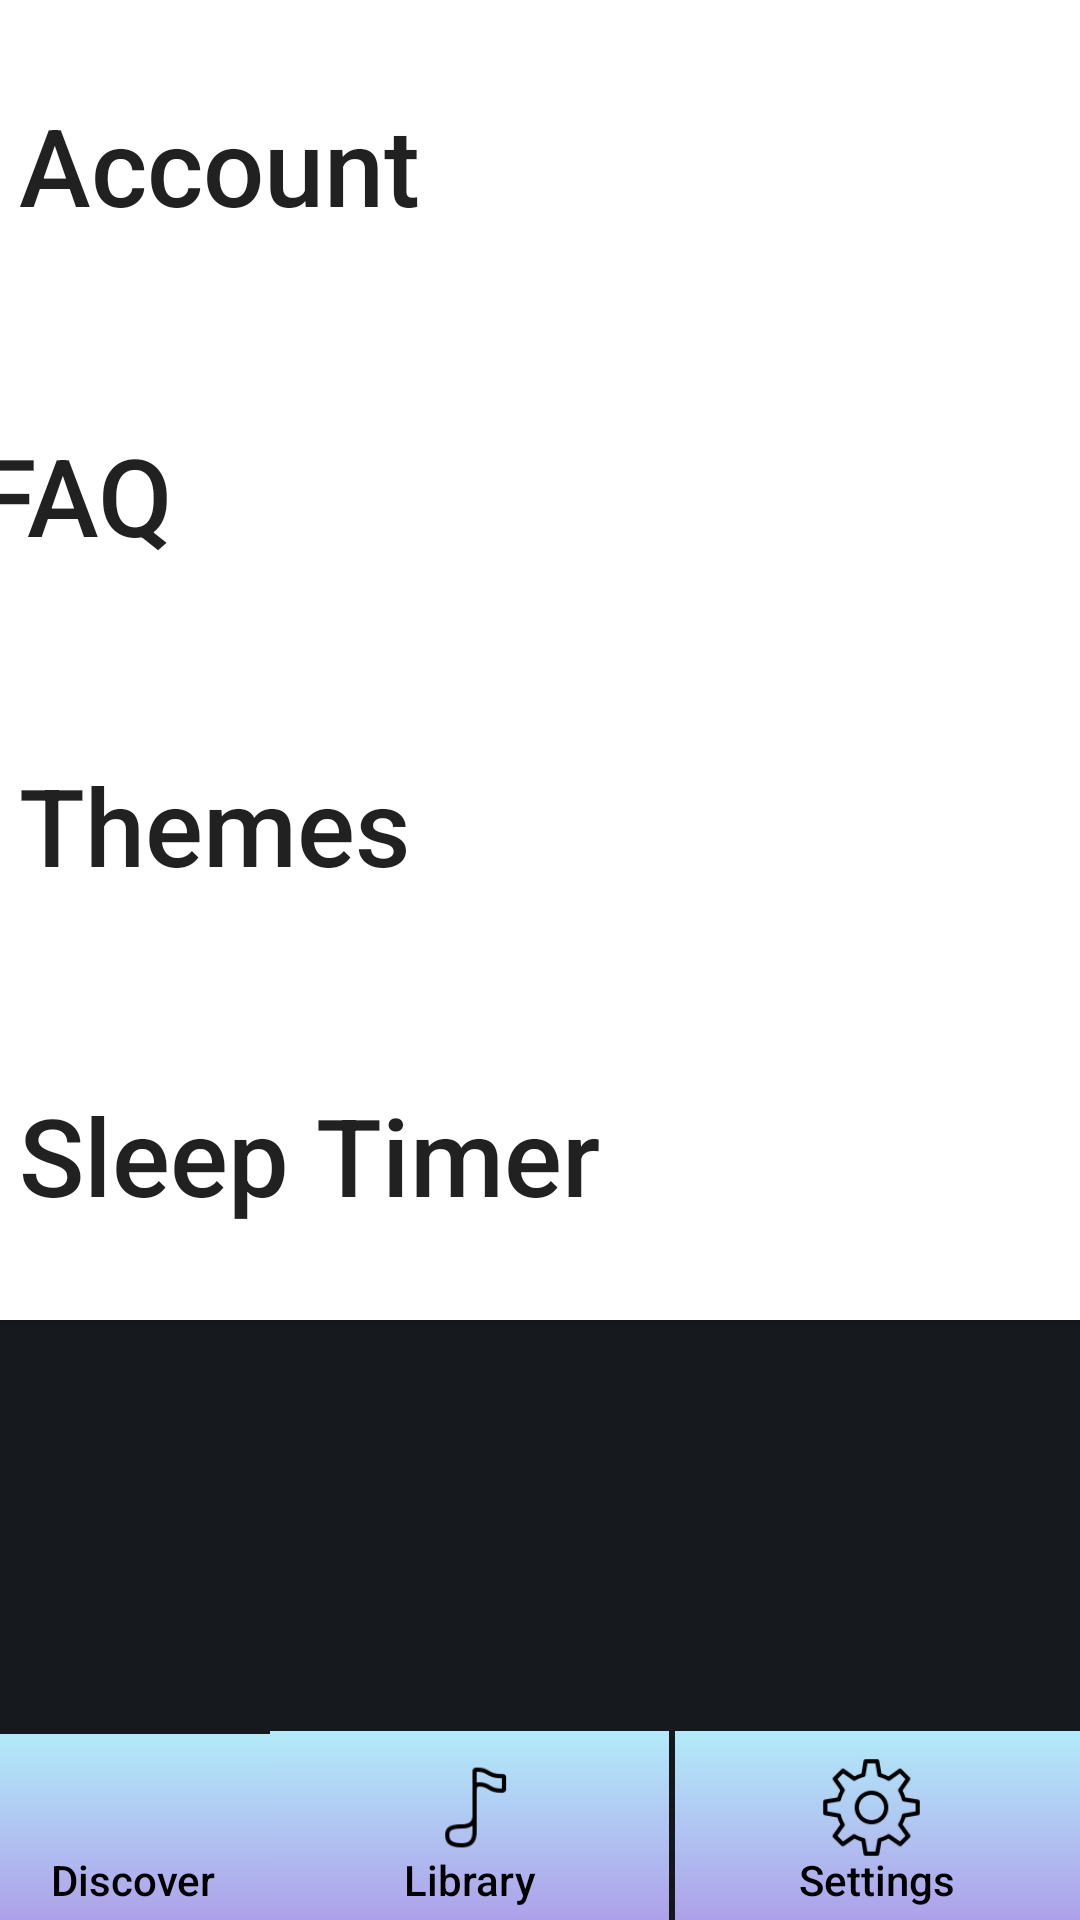

Icons on this 1080 × 1920 Android screen, each with the point to tap as [x,y]:
music: [472,1807]
